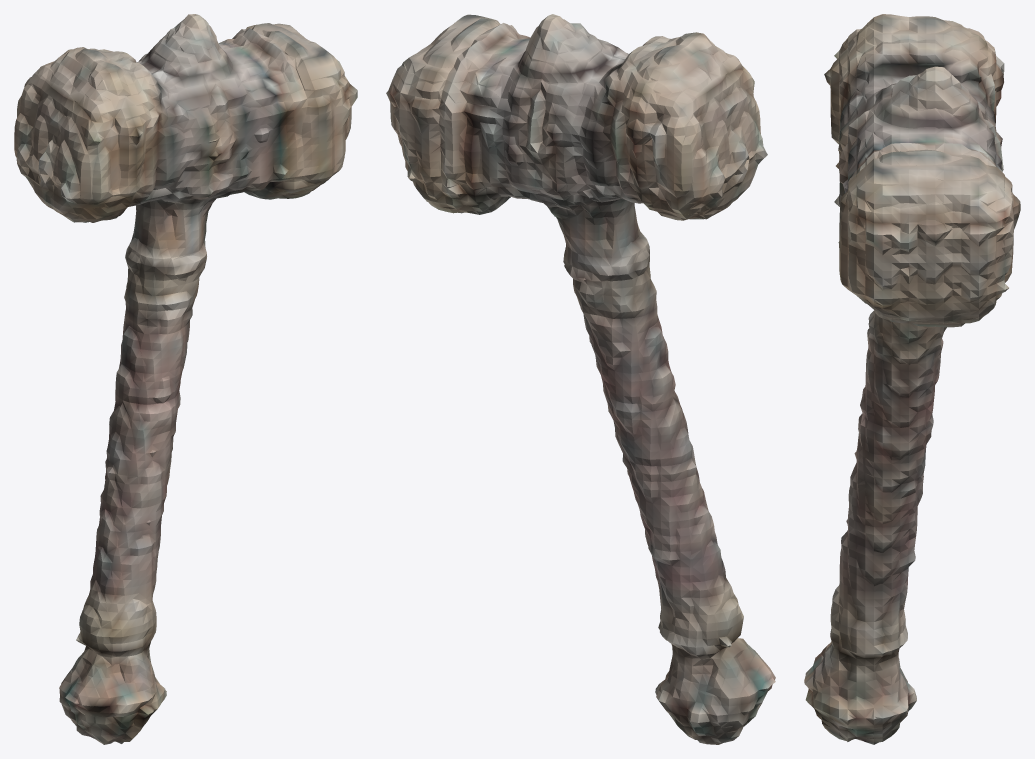
Rendered from weapon-hammer.glb.
3 renders of one model, left to right at view 1: azimuth 30°, elevation 25°; view 2: azimuth 150°, elevation 25°; view 3: azimuth 270°, elevation 25°, orthographic. The views are drawn at different scales.
Parts seen in each view (by area): view 1: geometry_0; view 2: geometry_0; view 3: geometry_0.
Boxes of the visible parts, left/top/right/bottom form: geometry_0: left=14, top=14, right=357, bottom=744; geometry_0: left=386, top=14, right=775, bottom=744; geometry_0: left=804, top=14, right=1020, bottom=744.
Bounding box in the file's own units: 0.4364 × 0.9238 × 0.2464.
